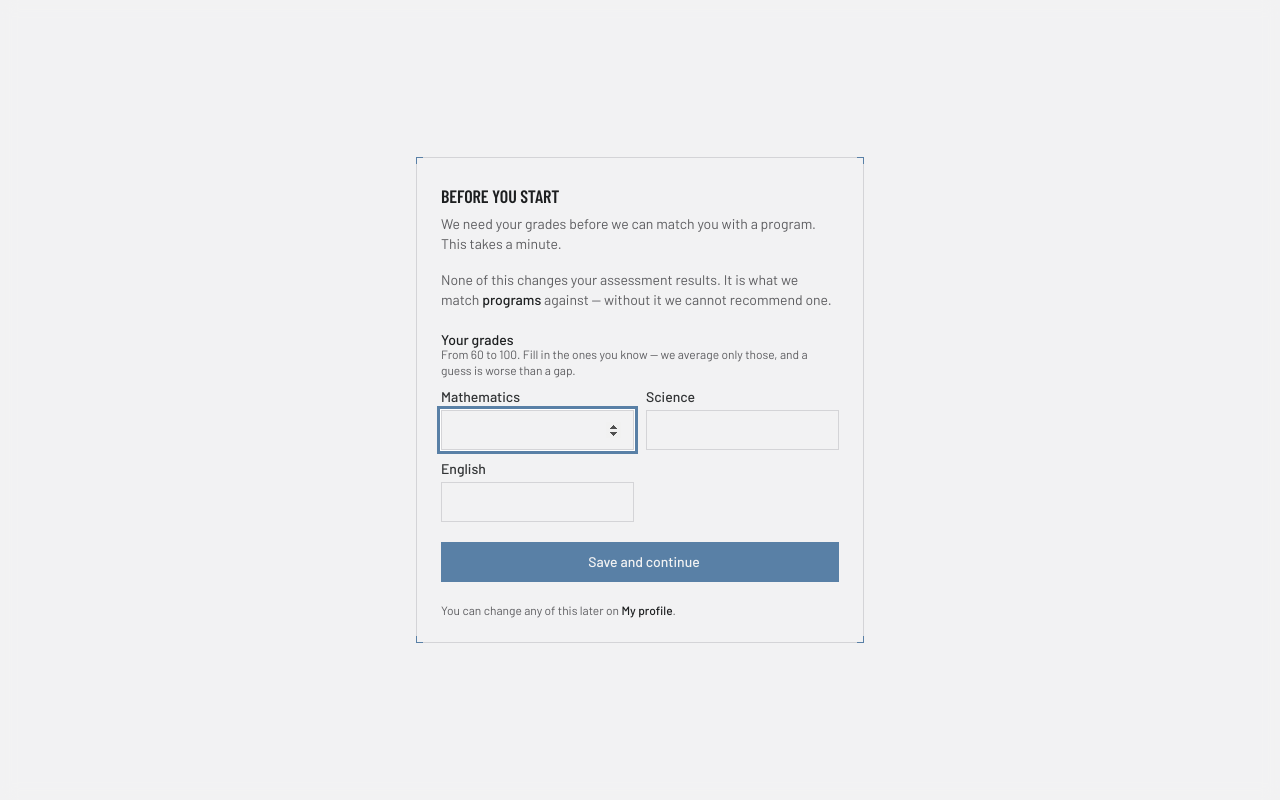
the profile gate › catches a grade outside 60–100 before the server has to
The image size is (1280, 800).
Check: the dialog with test id "profile-gate" is shown, box [416,157,864,643]
In the number field labelled "Mathematics": (538,430) [441,410,634,450], type "9.2"
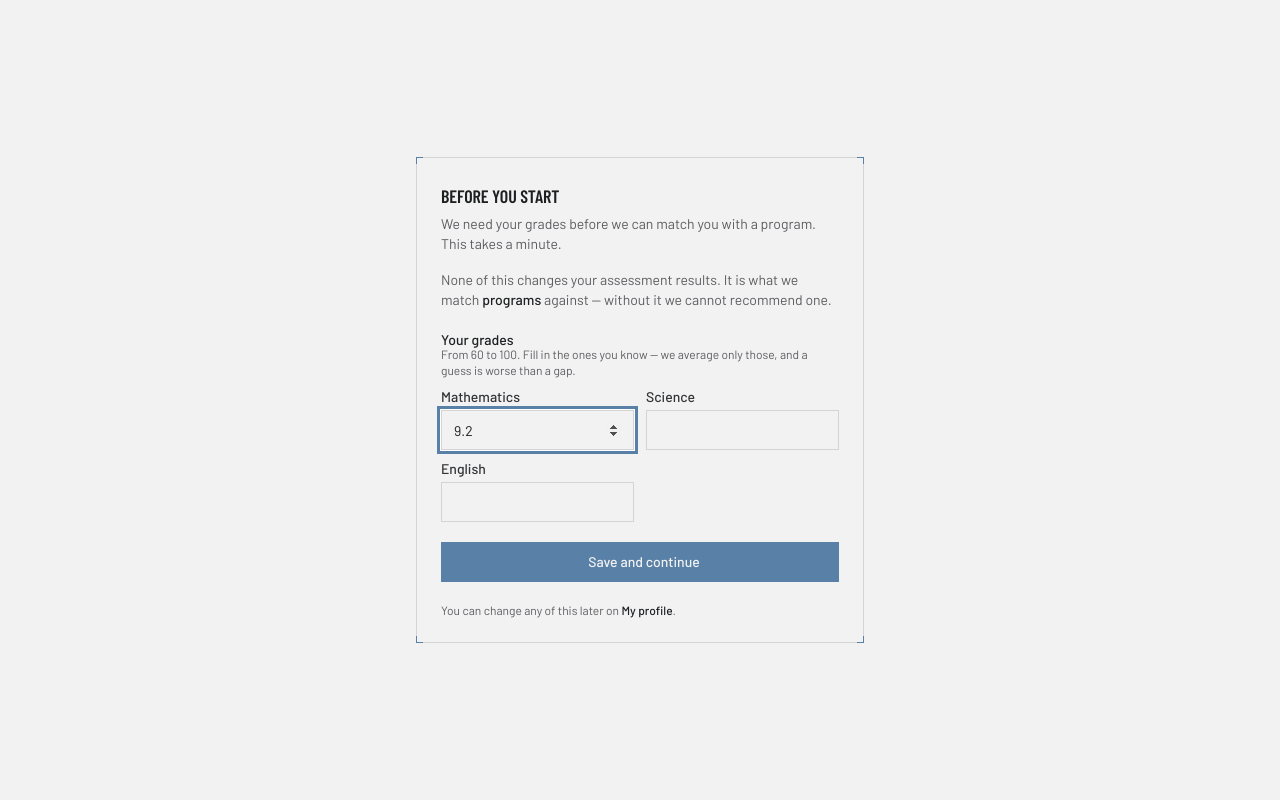
Click the button "Save and continue": (640,562) [441,542,839,582]
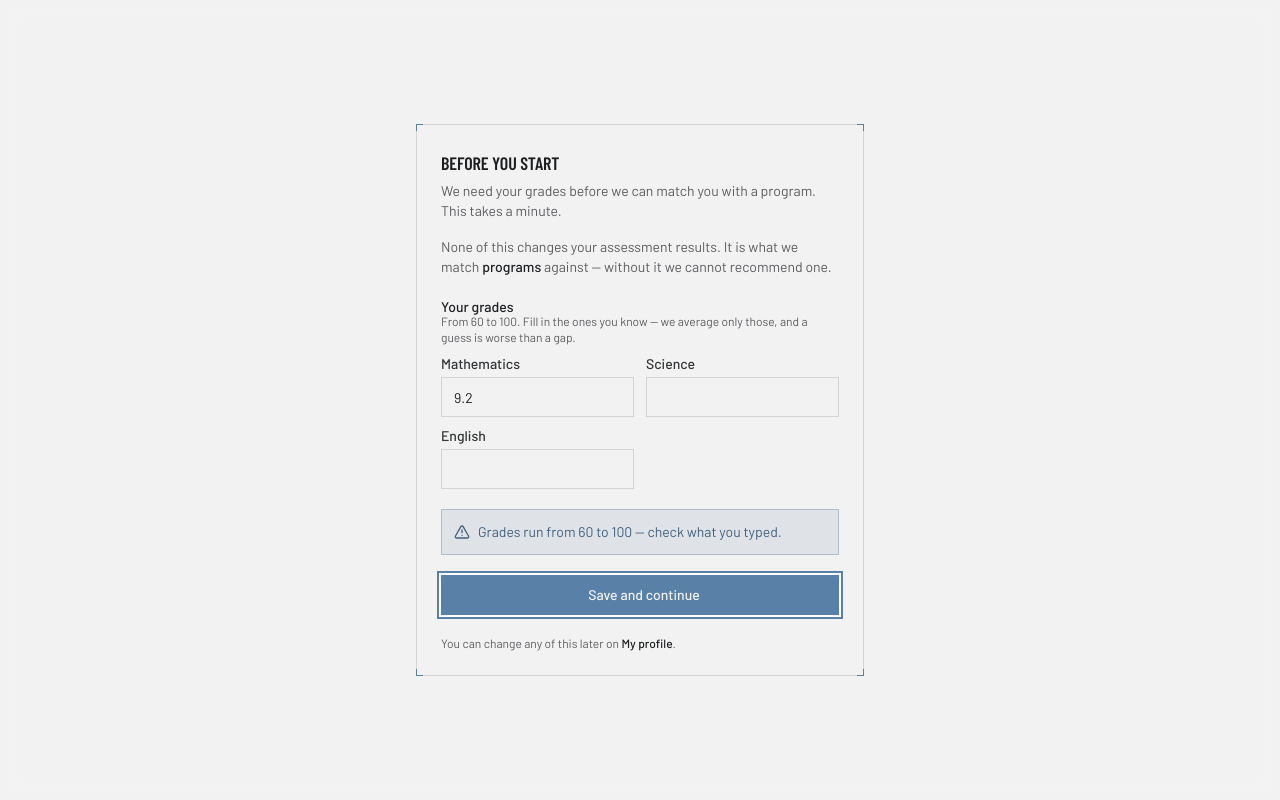
Check: the text "Grades run from 60 to 100 — check what you typed." is shown, box [478,522,782,542]
